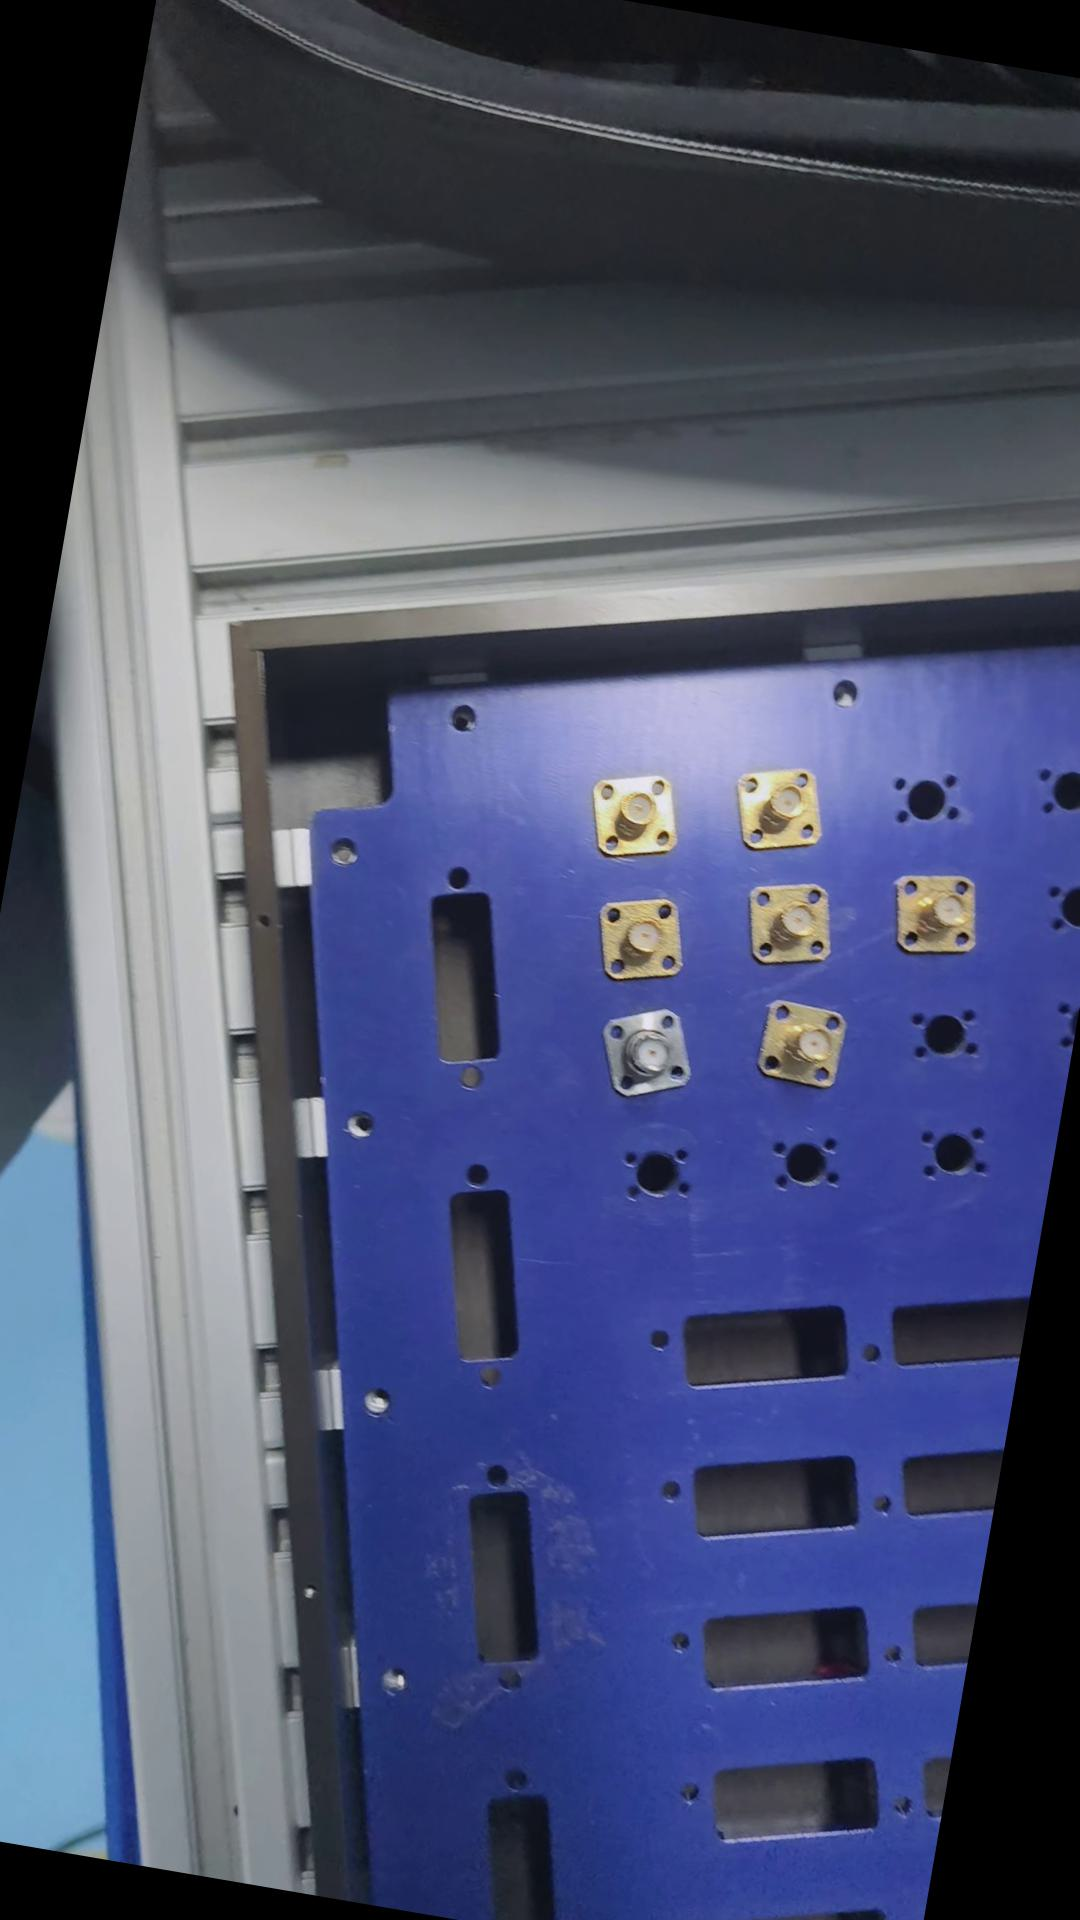SMA: (579, 764, 698, 870), (750, 988, 858, 1100), (593, 1002, 702, 1108), (741, 872, 847, 977), (585, 891, 696, 992), (731, 757, 833, 861), (885, 865, 988, 963)
